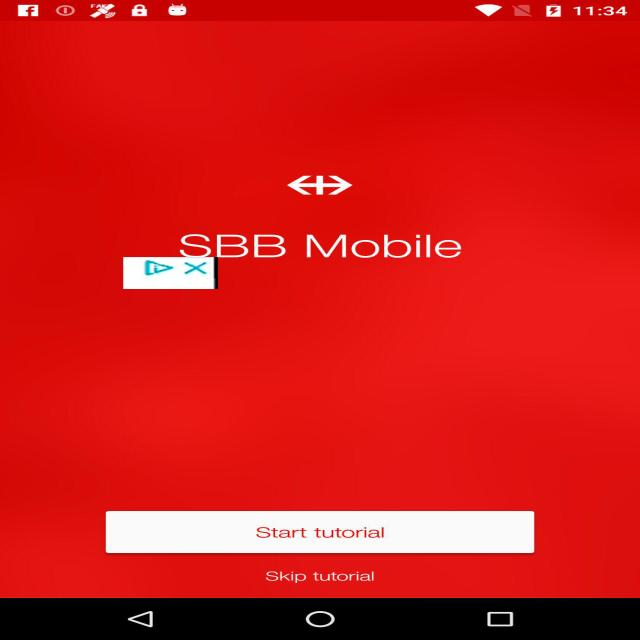sneaking: (123, 257, 218, 289)
